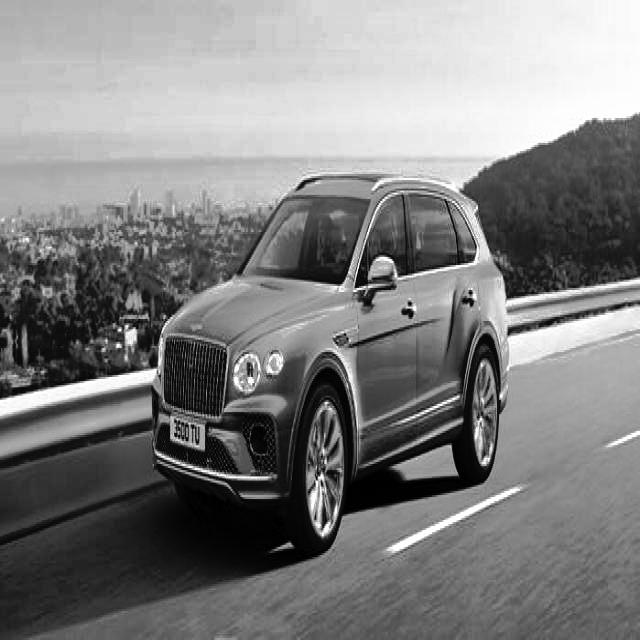Car: (149, 174, 513, 557)
